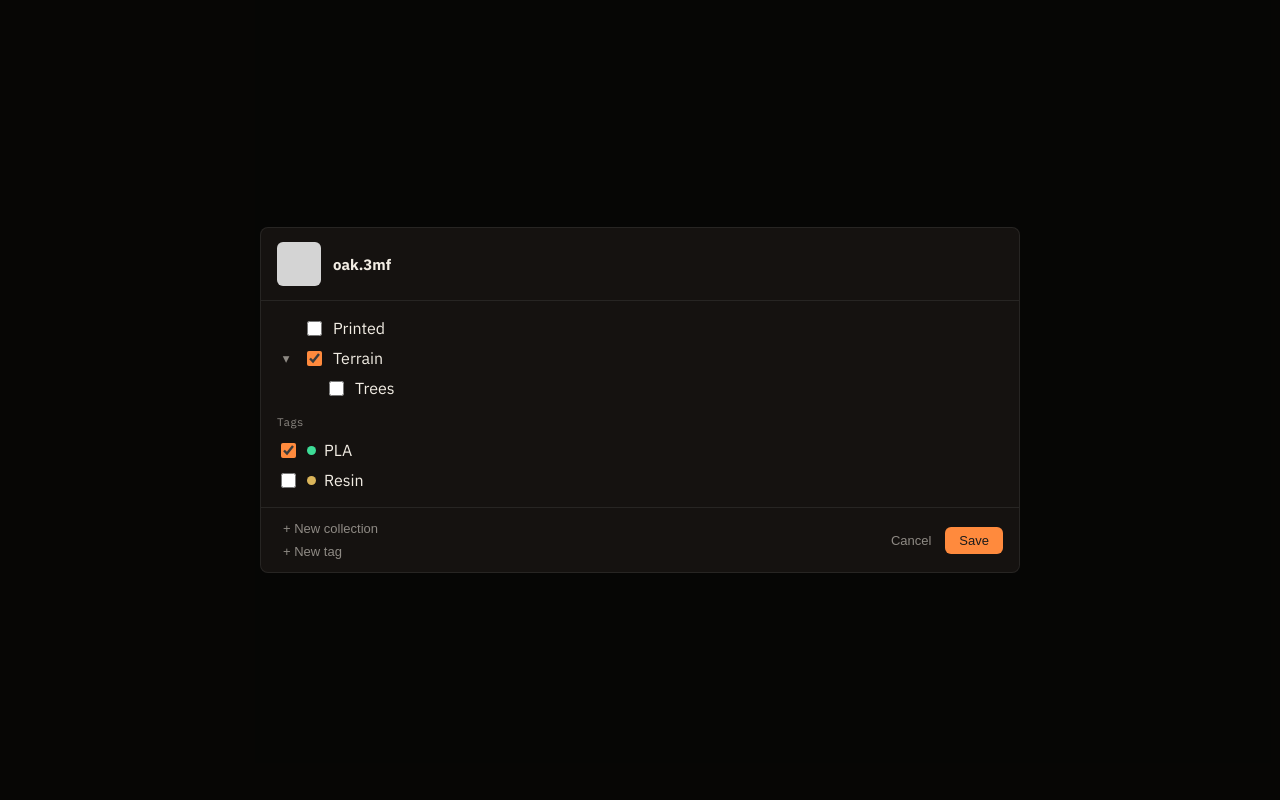
Scenario: AssignFoldersModal › creates a tag, auto-checks it, and notifies
Click the button "+ New tag" at (312, 552), box [277,543,348,560]
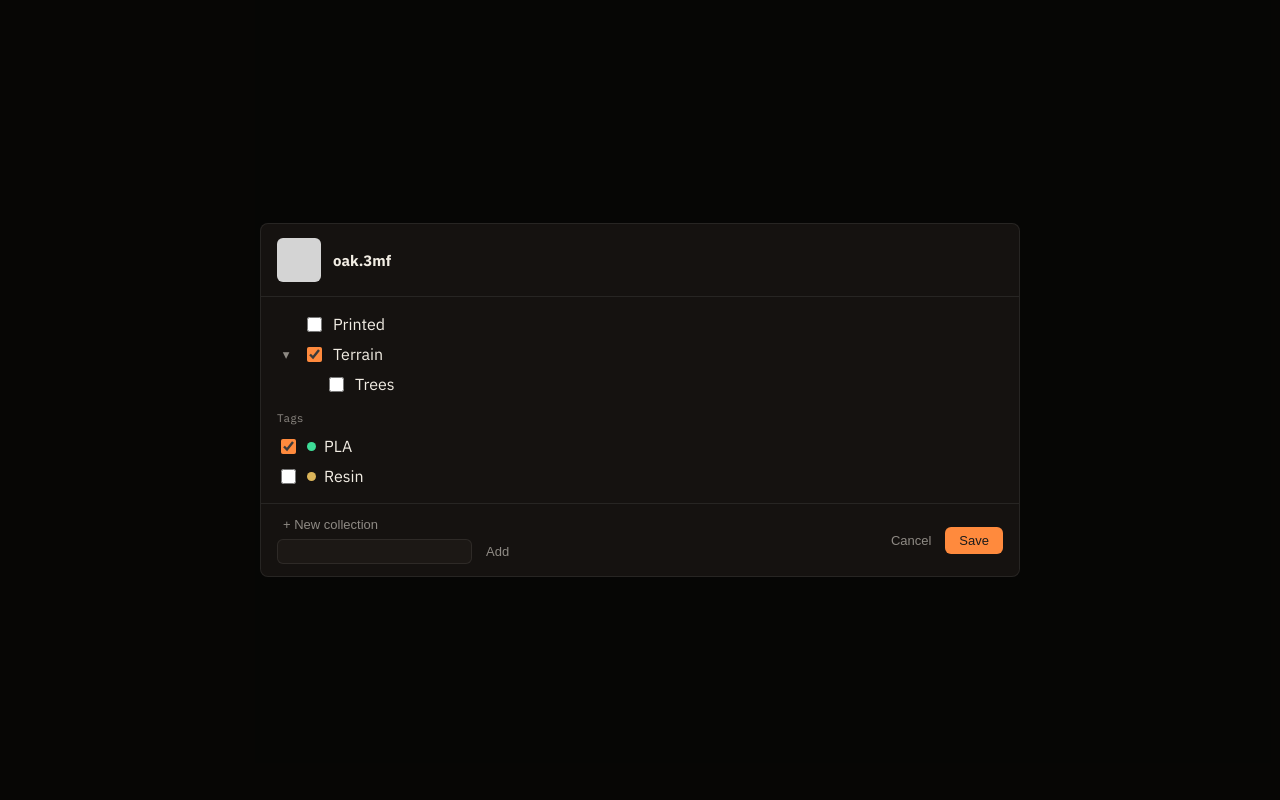
Type "Custom" into the field named "New tag name" at (374, 552), box [277,539,472,564]
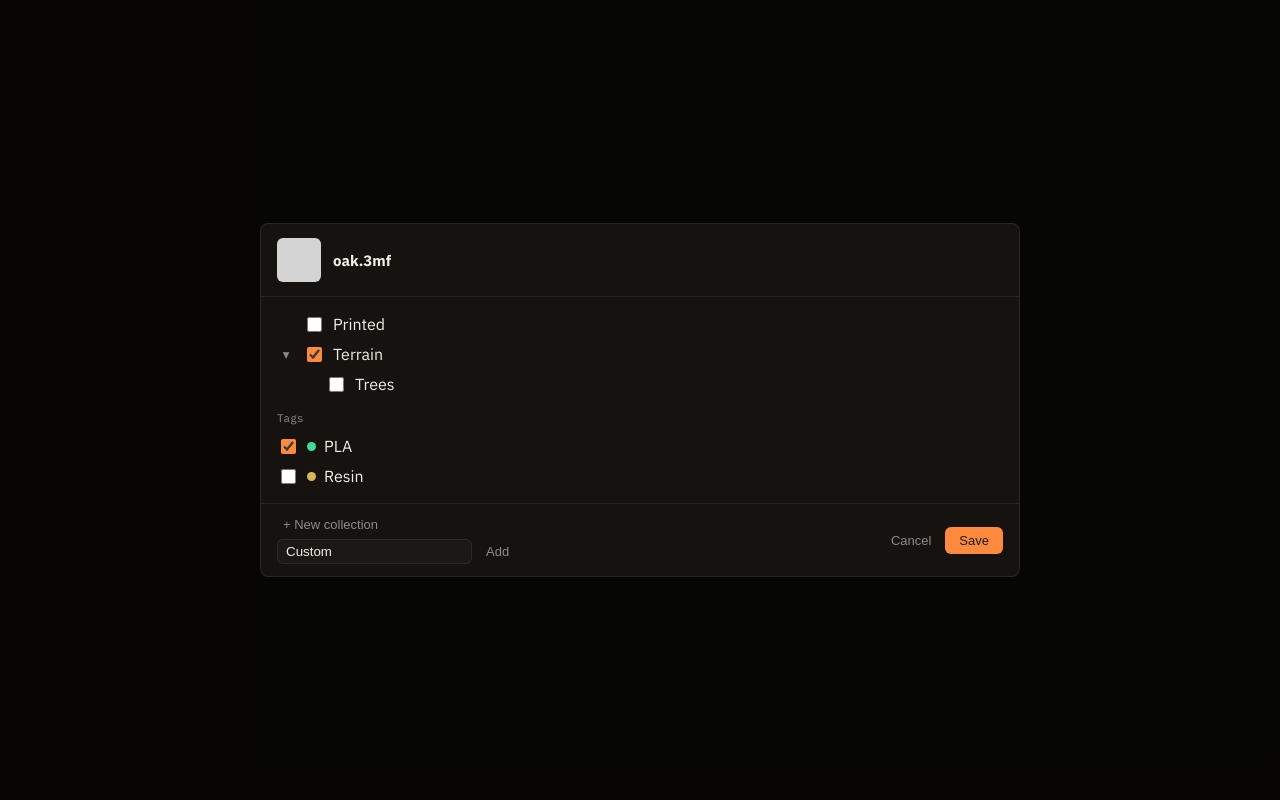
Click the button "Add" at (498, 552), box [480,543,515,560]
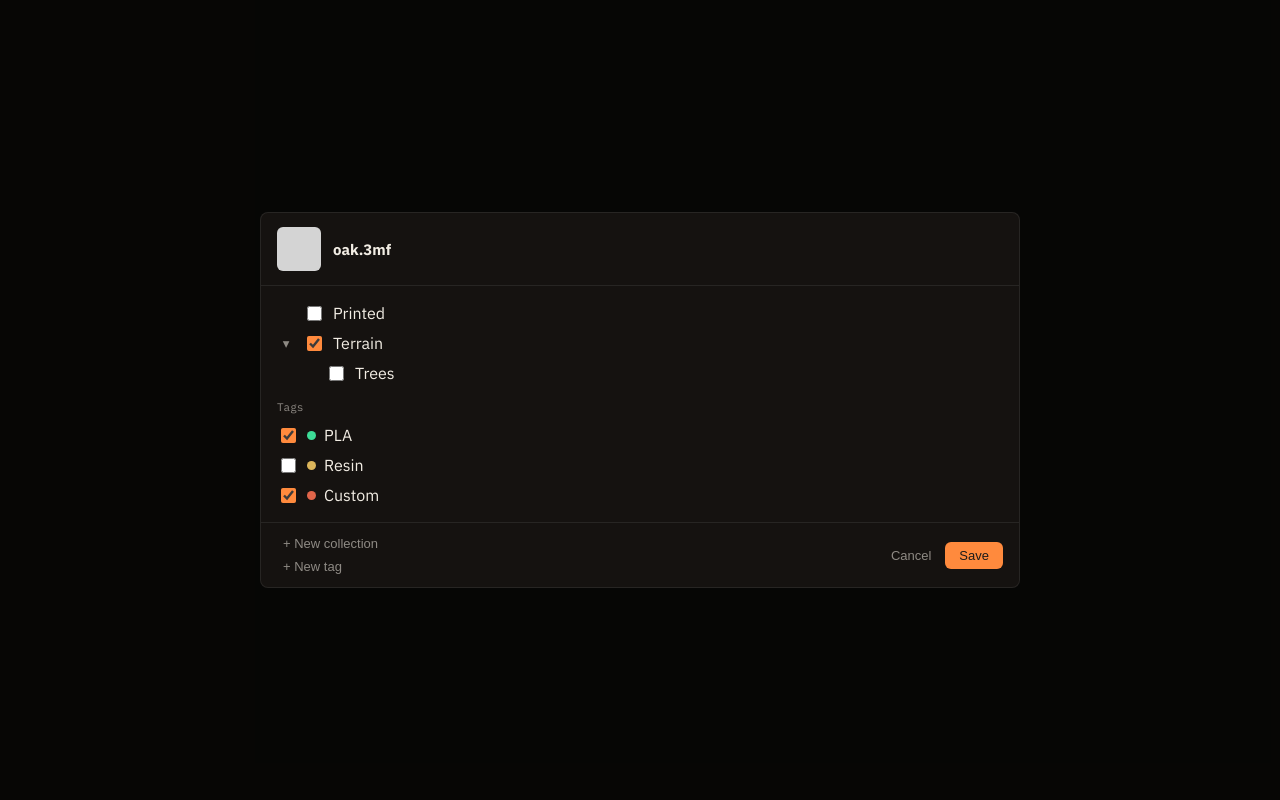
Check: the checkbox labelled "Custom" is checked, box [281,488,296,502]
